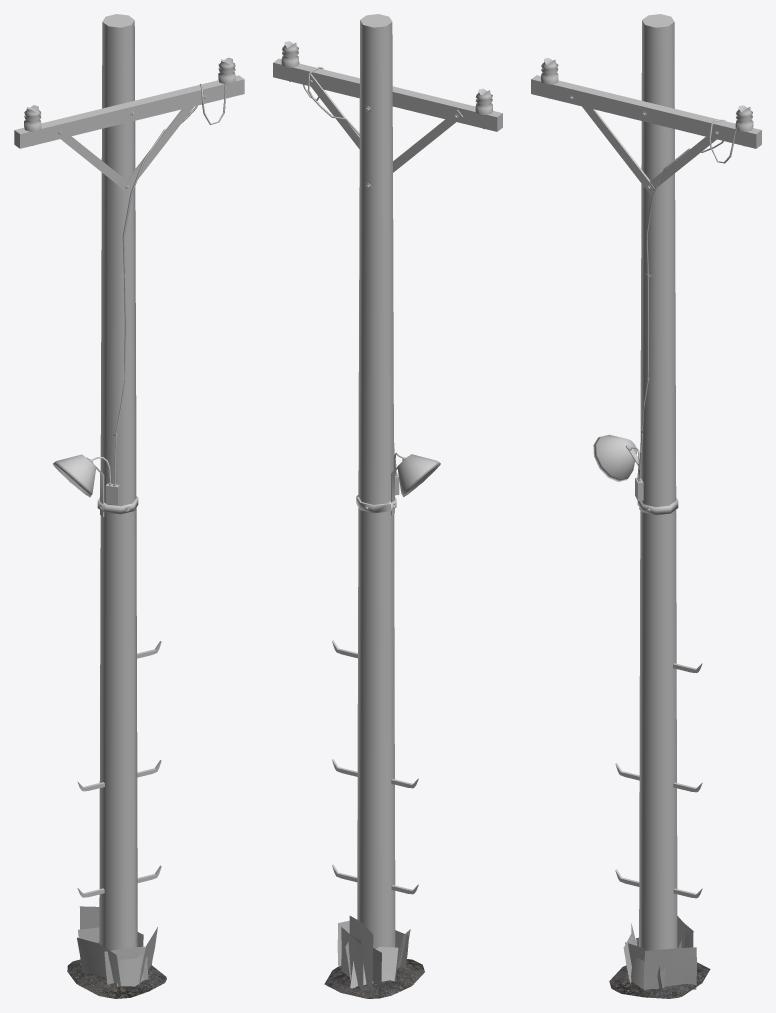
Rendered from power pole.FBX.
3 views of the same model, side by side, from view 1: azimuth 30°, elevation 25°; view 2: azimuth 150°, elevation 25°; view 3: azimuth 330°, elevation 25° (orthographic).
Visible parts, largest first — view 1: Telephone Pole 01; view 2: Telephone Pole 01; view 3: Telephone Pole 01.
Boxes of the visible parts, bbox=[...] form: Telephone Pole 01: bbox=[14, 14, 244, 998]; Telephone Pole 01: bbox=[273, 14, 502, 998]; Telephone Pole 01: bbox=[531, 14, 761, 998].
Size of the model in its own units: 89.22 by 365 by 35.88.
